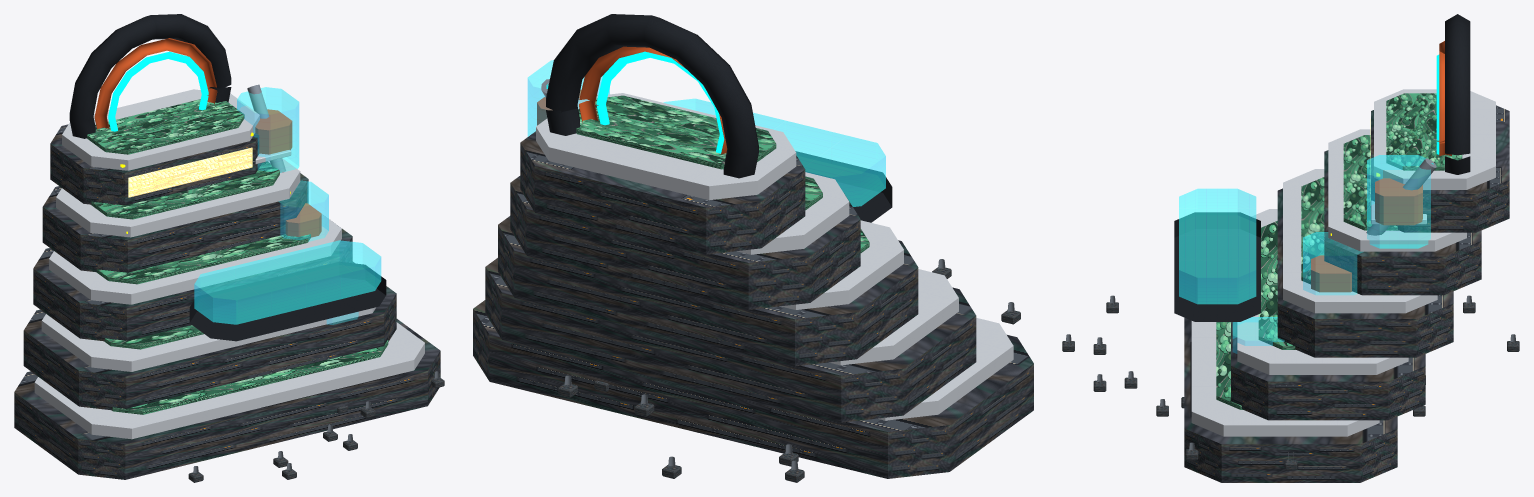
File: interior_setpiece_04_r1_05.glb
The picture shows the model from 3 angles, left to right: view 1: azimuth 30°, elevation 25°; view 2: azimuth 150°, elevation 25°; view 3: azimuth 270°, elevation 25°; orthographic projection. The views are drawn at different scales.
Visible parts, largest first — view 1: Setpiece04_C05_cliff_basalt, Setpiece04_C05_aero_white, Setpiece04_C05_glass_cyan, Setpiece04_C05_gunmetal, Setpiece04_C05_biome_canopy, Setpiece04_C05_accent_orange, Setpiece04_C05_window_warm_amber, Setpiece04_C05_led_cyan, Setpiece04_C05_steel_machined; view 2: Setpiece04_C05_cliff_basalt, Setpiece04_C05_aero_white, Setpiece04_C05_gunmetal, Setpiece04_C05_biome_canopy, Setpiece04_C05_glass_cyan, Setpiece04_C05_accent_orange, Setpiece04_C05_led_cyan, Setpiece04_C05_steel_machined; view 3: Setpiece04_C05_cliff_basalt, Setpiece04_C05_aero_white, Setpiece04_C05_glass_cyan, Setpiece04_C05_gunmetal, Setpiece04_C05_biome_canopy, Setpiece04_C05_accent_orange, Setpiece04_C05_steel_machined.
Boxes of the visible parts, box(x1,y1,x2,y2) form: Setpiece04_C05_cliff_basalt: box(14, 124, 444, 482); Setpiece04_C05_aero_white: box(34, 89, 424, 439); Setpiece04_C05_glass_cyan: box(194, 87, 381, 324); Setpiece04_C05_gunmetal: box(69, 14, 386, 341); Setpiece04_C05_biome_canopy: box(87, 99, 388, 414); Setpiece04_C05_accent_orange: box(94, 38, 321, 237); Setpiece04_C05_window_warm_amber: box(128, 147, 252, 197); Setpiece04_C05_led_cyan: box(108, 51, 208, 131); Setpiece04_C05_steel_machined: box(193, 84, 439, 473); Setpiece04_C05_cliff_basalt: box(473, 131, 1033, 482); Setpiece04_C05_aero_white: box(536, 93, 1013, 420); Setpiece04_C05_gunmetal: box(546, 14, 892, 222); Setpiece04_C05_biome_canopy: box(576, 95, 869, 252); Setpiece04_C05_glass_cyan: box(527, 60, 885, 206); Setpiece04_C05_accent_orange: box(537, 46, 727, 154); Setpiece04_C05_led_cyan: box(546, 51, 724, 153); Setpiece04_C05_steel_machined: box(541, 79, 1014, 470); Setpiece04_C05_cliff_basalt: box(1062, 105, 1519, 482); Setpiece04_C05_aero_white: box(1191, 89, 1495, 436); Setpiece04_C05_glass_cyan: box(1179, 155, 1430, 353); Setpiece04_C05_gunmetal: box(1174, 14, 1470, 321); Setpiece04_C05_biome_canopy: box(1216, 93, 1462, 409); Setpiece04_C05_accent_orange: box(1311, 41, 1451, 292); Setpiece04_C05_steel_machined: box(1065, 158, 1516, 459).
Bounding box in the file's own units: 34.58 × 30.1 × 34.29.
10 materials, 10 textured.
